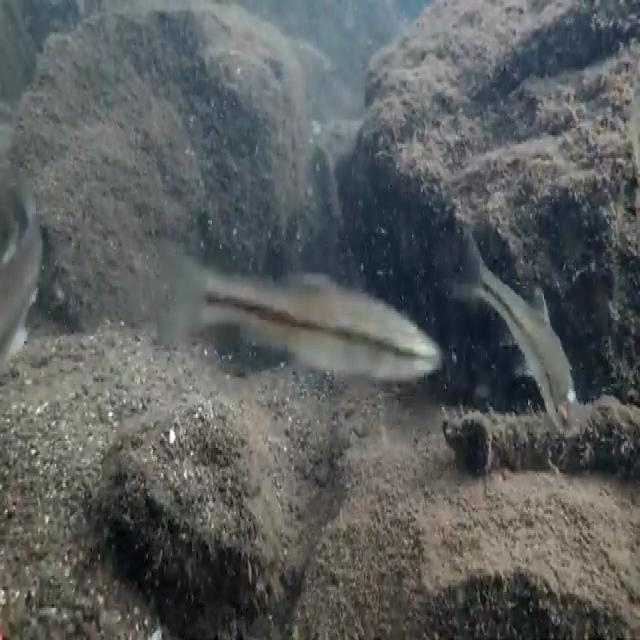Cakil Baligi: (156, 230, 442, 407), (451, 230, 589, 440)
